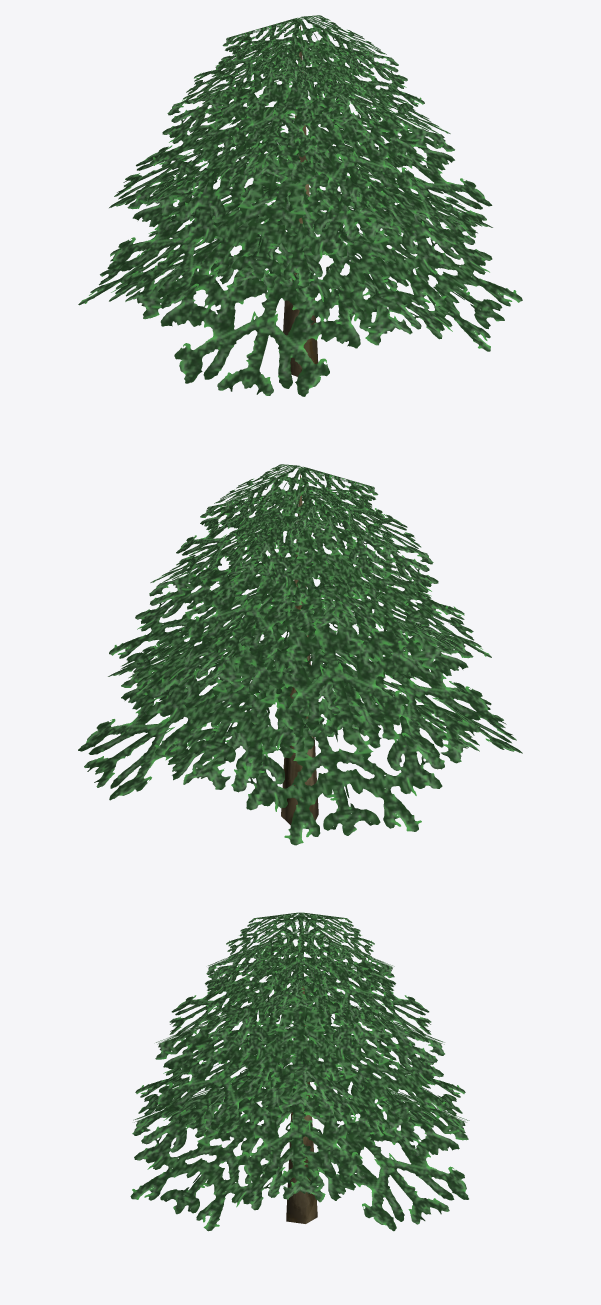
File: Fir.fbx
3 renders of one model, top to bottom at view 1: azimuth 30°, elevation 25°; view 2: azimuth 150°, elevation 25°; view 3: azimuth 270°, elevation 25°, orthographic. The views are drawn at different scales.
Visible parts, largest first — view 1: Fir; view 2: Fir; view 3: Fir.
Boxes of the visible parts, left/top/right/bottom form: Fir: left=78, top=15, right=522, bottom=396; Fir: left=78, top=464, right=522, bottom=845; Fir: left=130, top=912, right=469, bottom=1231.
Size of the model in its own units: 1177 by 691 by 1177.
